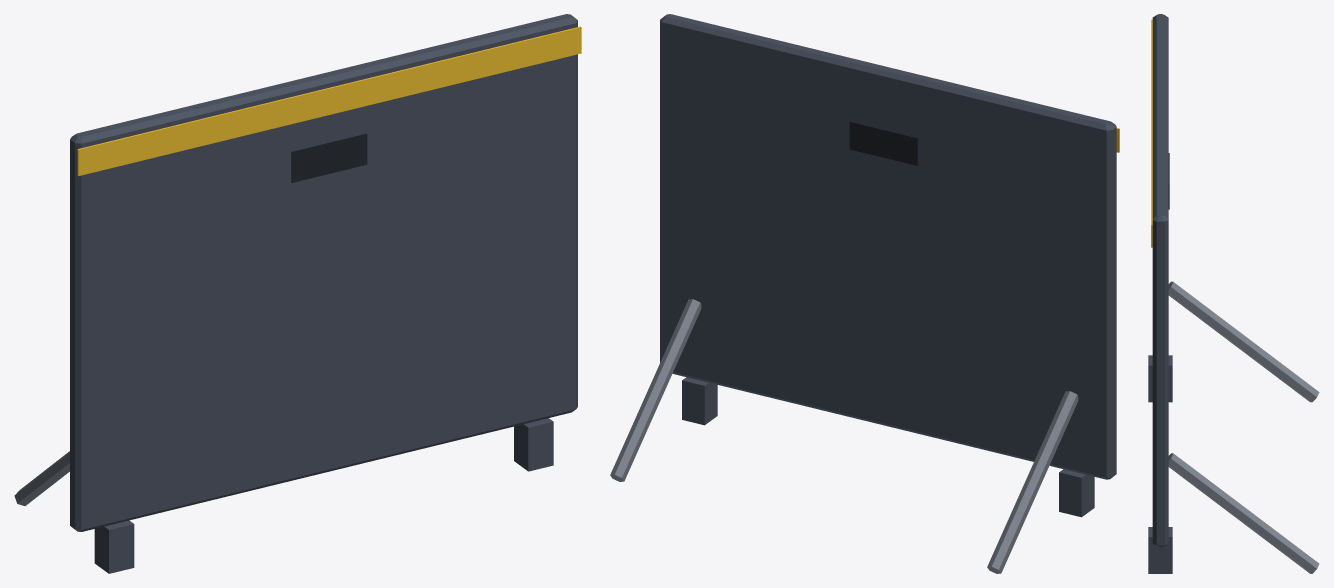
The model's file is deployable_barricade.glb.
The picture shows the model from 3 angles, left to right: view 1: azimuth 30°, elevation 25°; view 2: azimuth 150°, elevation 25°; view 3: azimuth 270°, elevation 25°; orthographic projection. The views are drawn at different scales.
Parts seen in each view (by area): view 1: deployable_barricade; view 2: deployable_barricade; view 3: deployable_barricade.
Boxes of the visible parts, <box> form: deployable_barricade: <box>14,14,581,573</box>; deployable_barricade: <box>610,14,1119,573</box>; deployable_barricade: <box>1148,14,1319,573</box>.
Bounding box in the file's own units: 1.2 × 1.01 × 0.4215.
